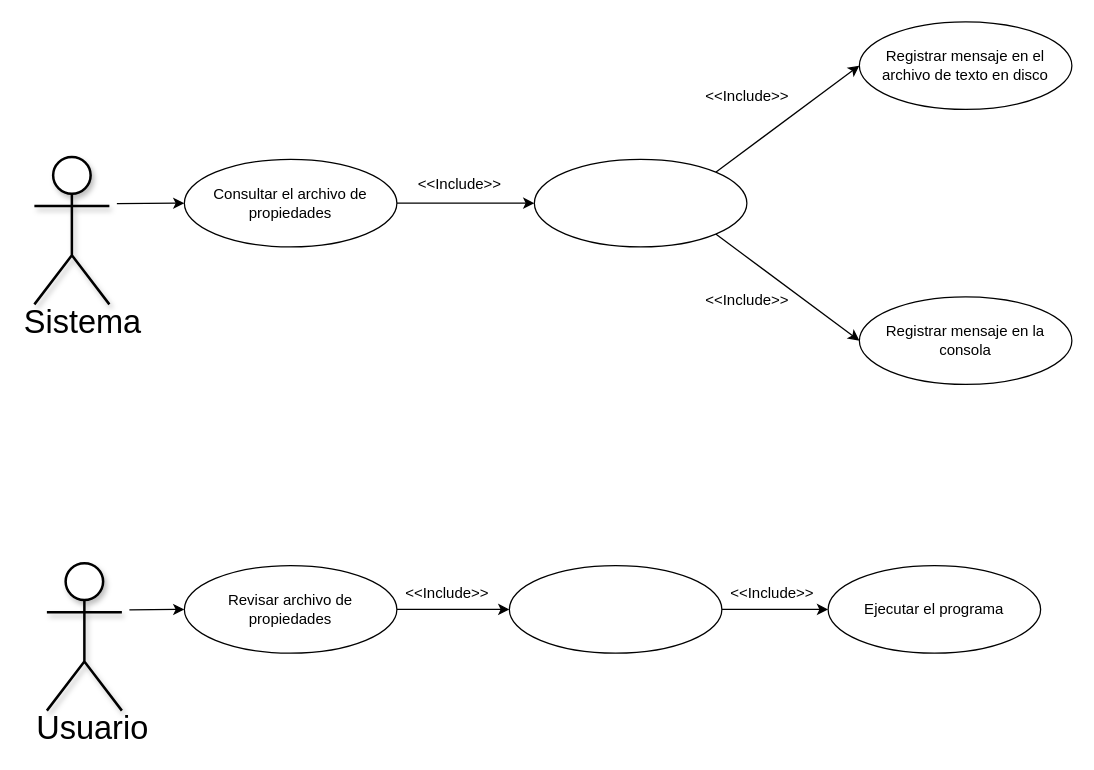
The diagram is 1094 pixels wide and 770 high, and some of its shapes have lost their labels. Each missing label, with the centre of its shape:
"Modificar variable deseada" belongs at pixel 615 608.
"Verificar la opcion registrada por el usuario" belongs at pixel 640 202.
